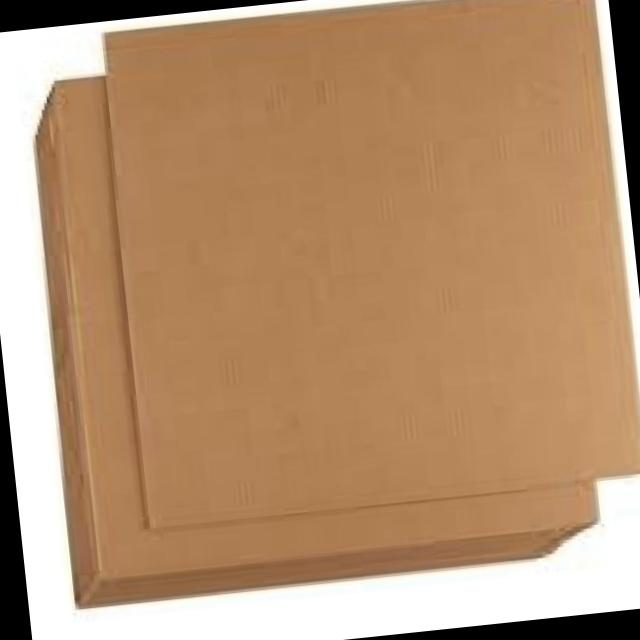cardboard paper: (38, 0, 640, 603)
